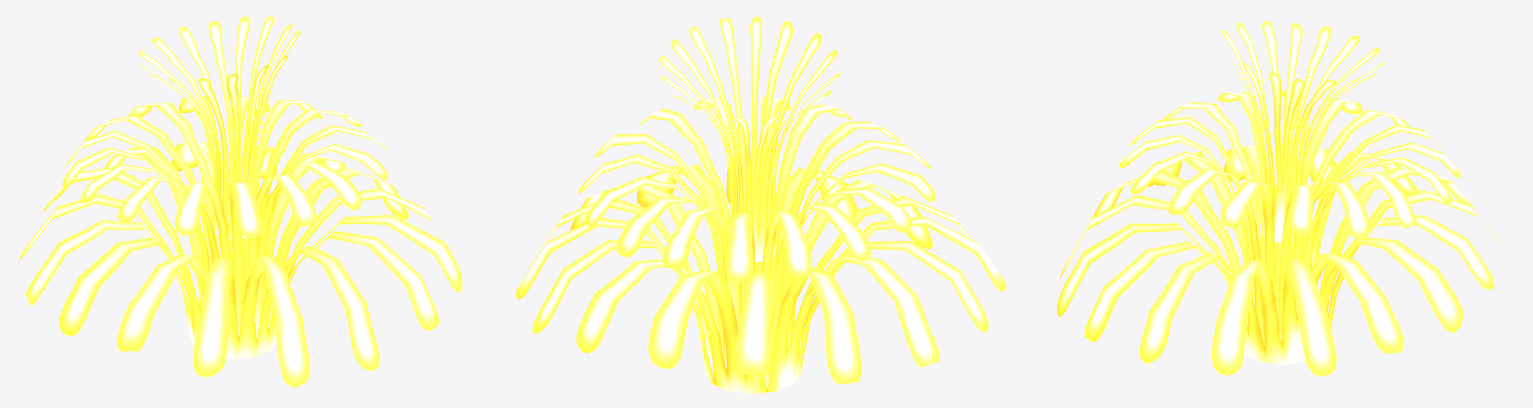
File: Anemone.fbx
3 views of the same model, side by side, from view 1: azimuth 30°, elevation 25°; view 2: azimuth 150°, elevation 25°; view 3: azimuth 270°, elevation 25° (orthographic). The views are drawn at different scales.
Visible parts, largest first — view 1: Anemone; view 2: Anemone; view 3: Anemone.
Boxes of the visible parts, x1,y1,x2,y2 form: Anemone: (19,16,462,387); Anemone: (516,16,1006,393); Anemone: (1057,20,1501,376).
Size of the model in its own units: 160 by 114 by 158.
